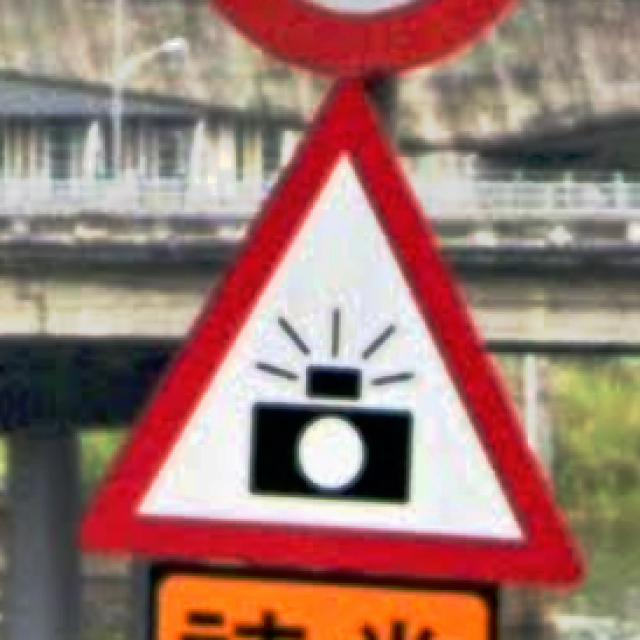speedcamera: (73, 0, 586, 590)
